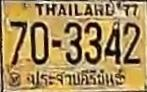0: (30, 21, 48, 63)
2: (122, 21, 140, 63)
3: (63, 21, 81, 64), (84, 21, 101, 63)
4: (104, 20, 120, 63)
7: (9, 20, 27, 64)
PKN: (28, 67, 128, 90)
